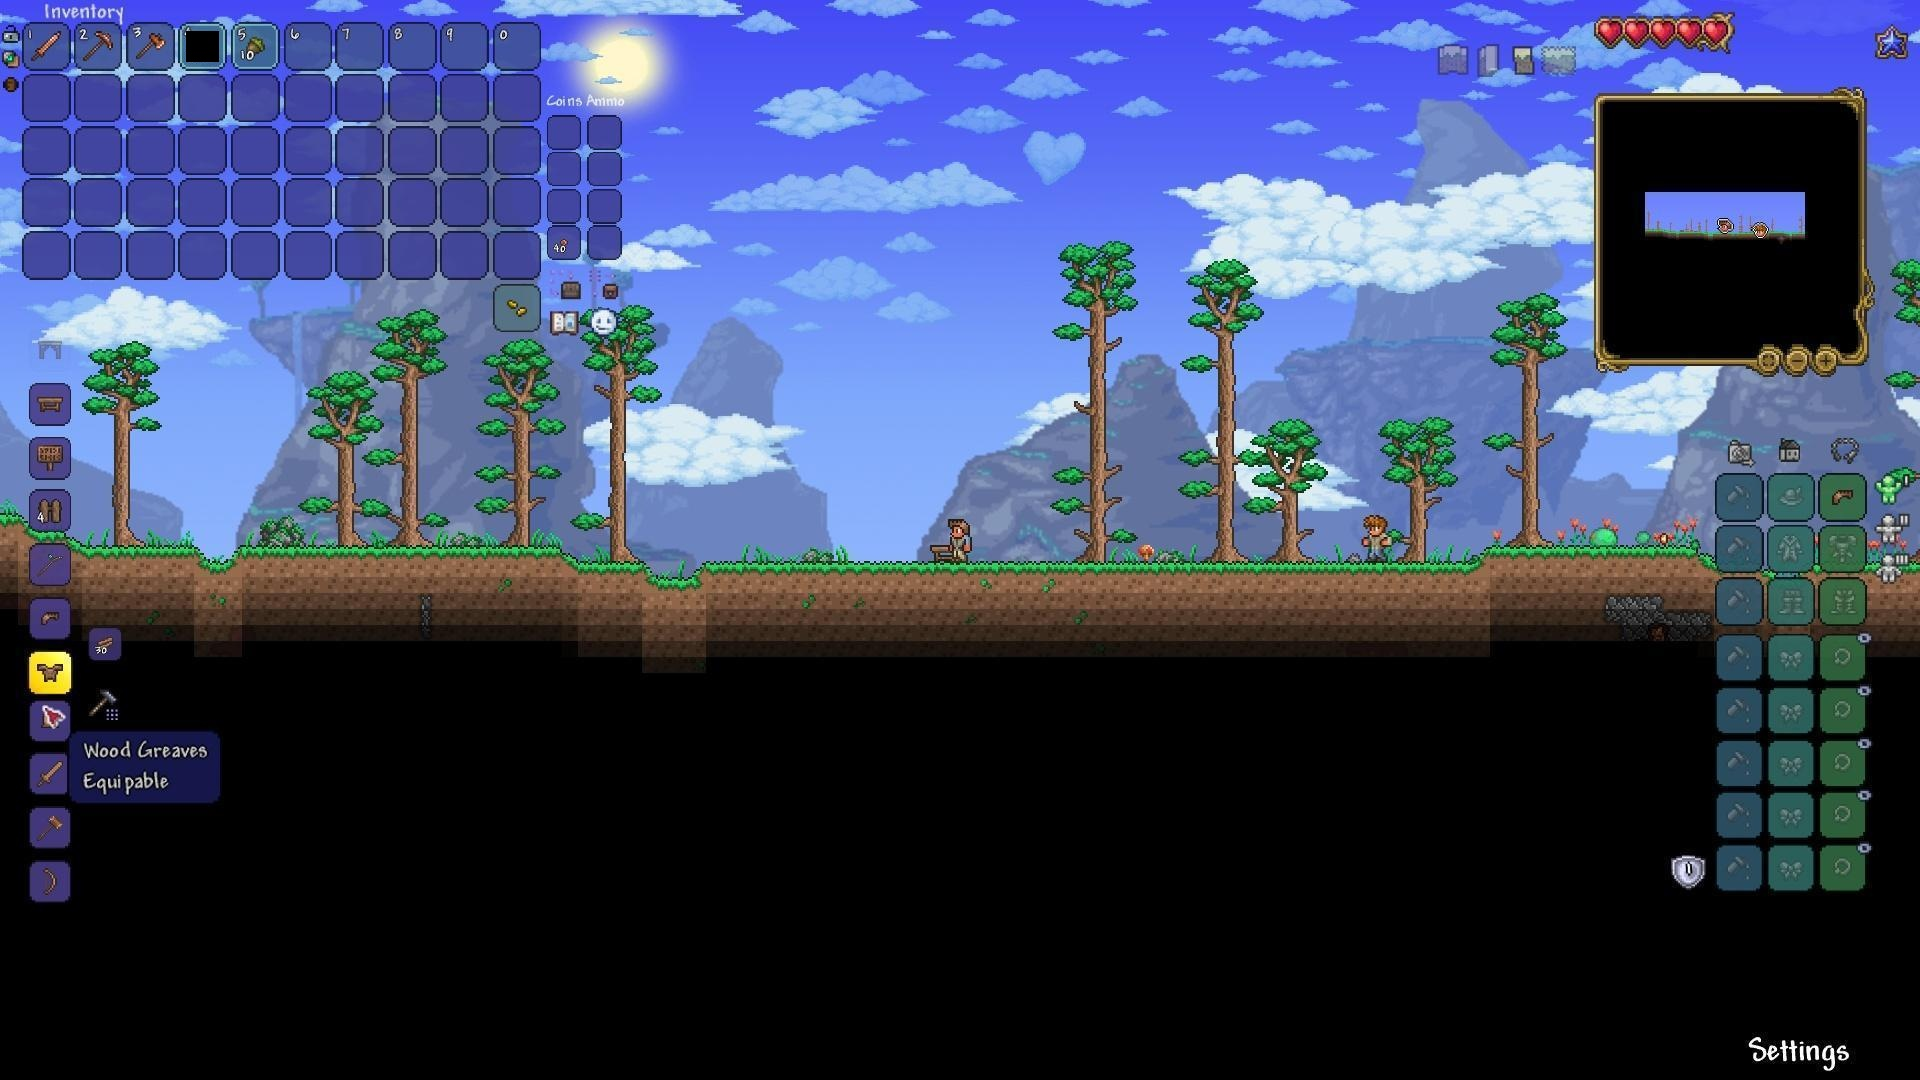breastplate: (34, 662, 65, 683)
helmet: (36, 604, 66, 632), (1828, 483, 1858, 509)
slime: (1592, 525, 1618, 549)
wood: (92, 632, 120, 657)
workbench: (29, 393, 66, 418), (922, 542, 959, 567)
